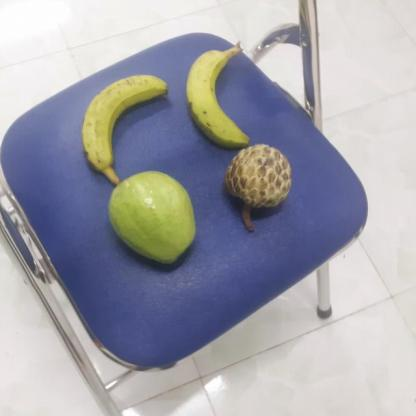annona: (223, 144, 292, 212)
banana: (77, 71, 168, 175), (184, 47, 250, 148)
guava: (104, 172, 198, 264)
